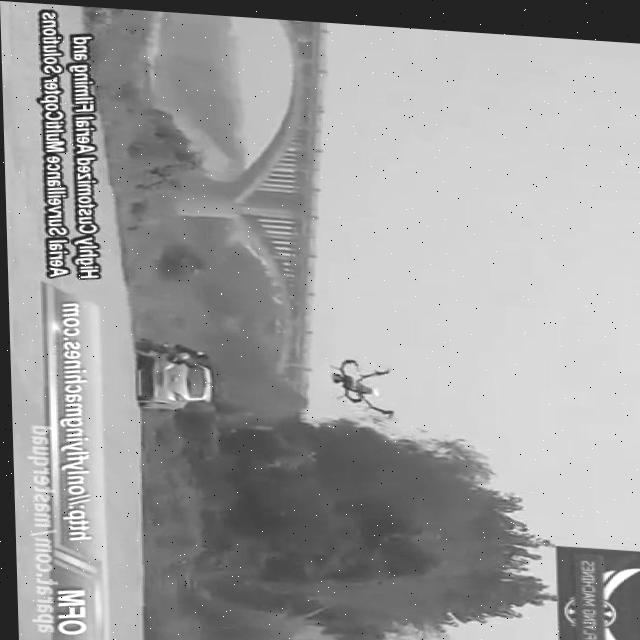drone: (326, 347, 399, 416)
